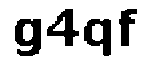4: (45, 6, 80, 50)
f: (116, 4, 141, 51)
g: (10, 11, 44, 60)
q: (83, 16, 113, 59)
